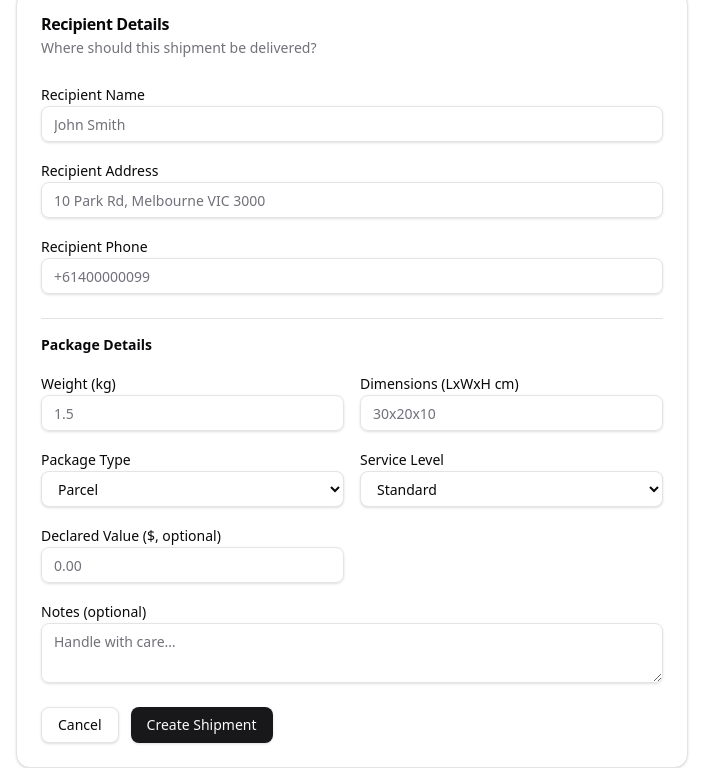
Test: CreateShipmentPage › shows validation error for short recipient name
The width and height of the screenshot is (705, 768).
(page scrolled)
Click the button "Create Shipment".
click(202, 725)  # box 131,707 -> 273,743
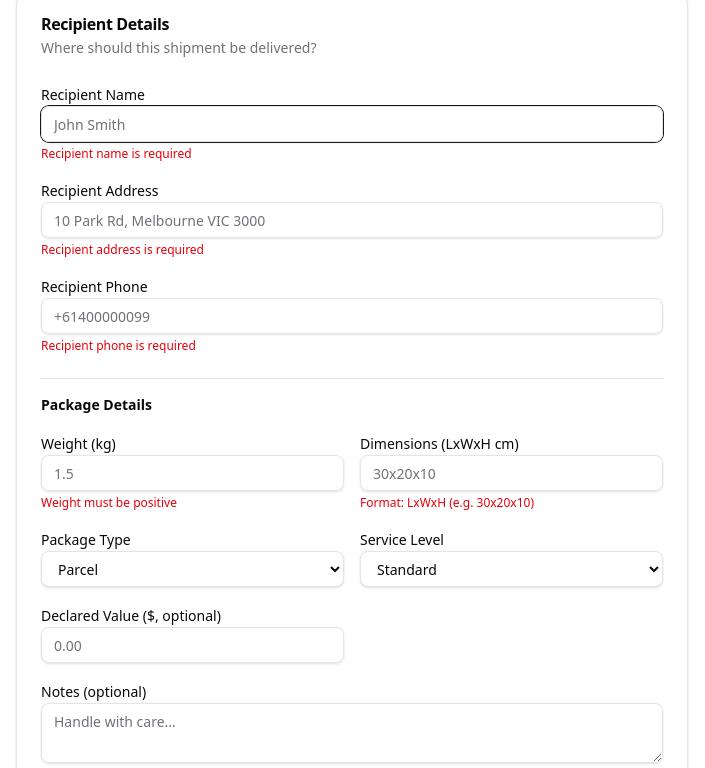
Expected: the text "Recipient name is required" is shown, 41,145 -> 192,162
